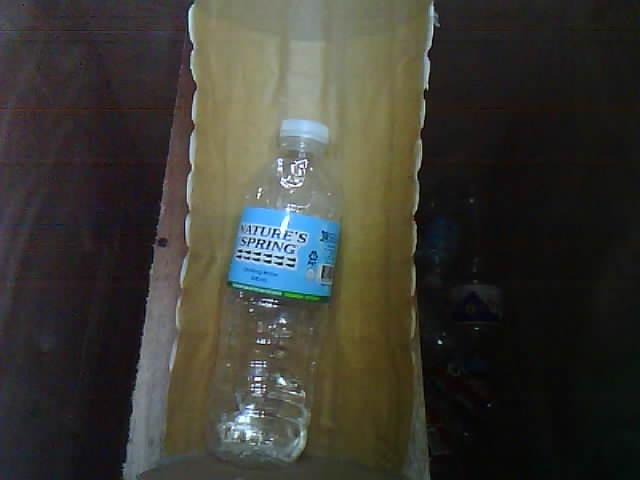small_bottle: (198, 100, 365, 480)
